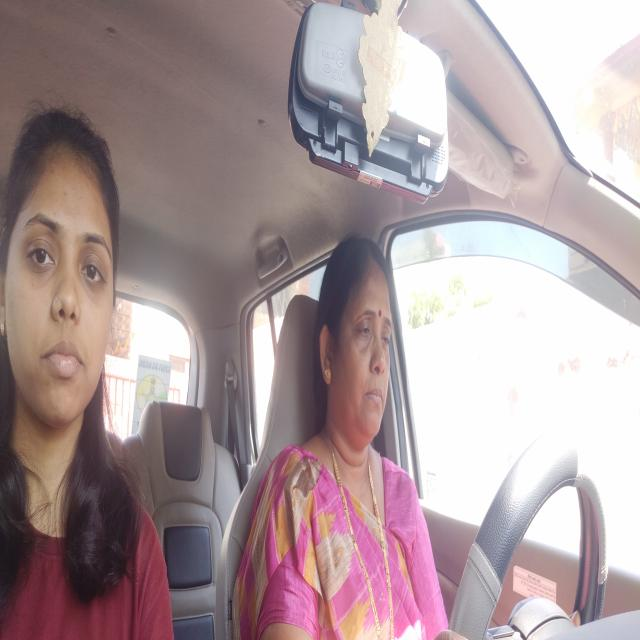drowsy: (2, 114, 120, 425), (318, 250, 396, 444)
